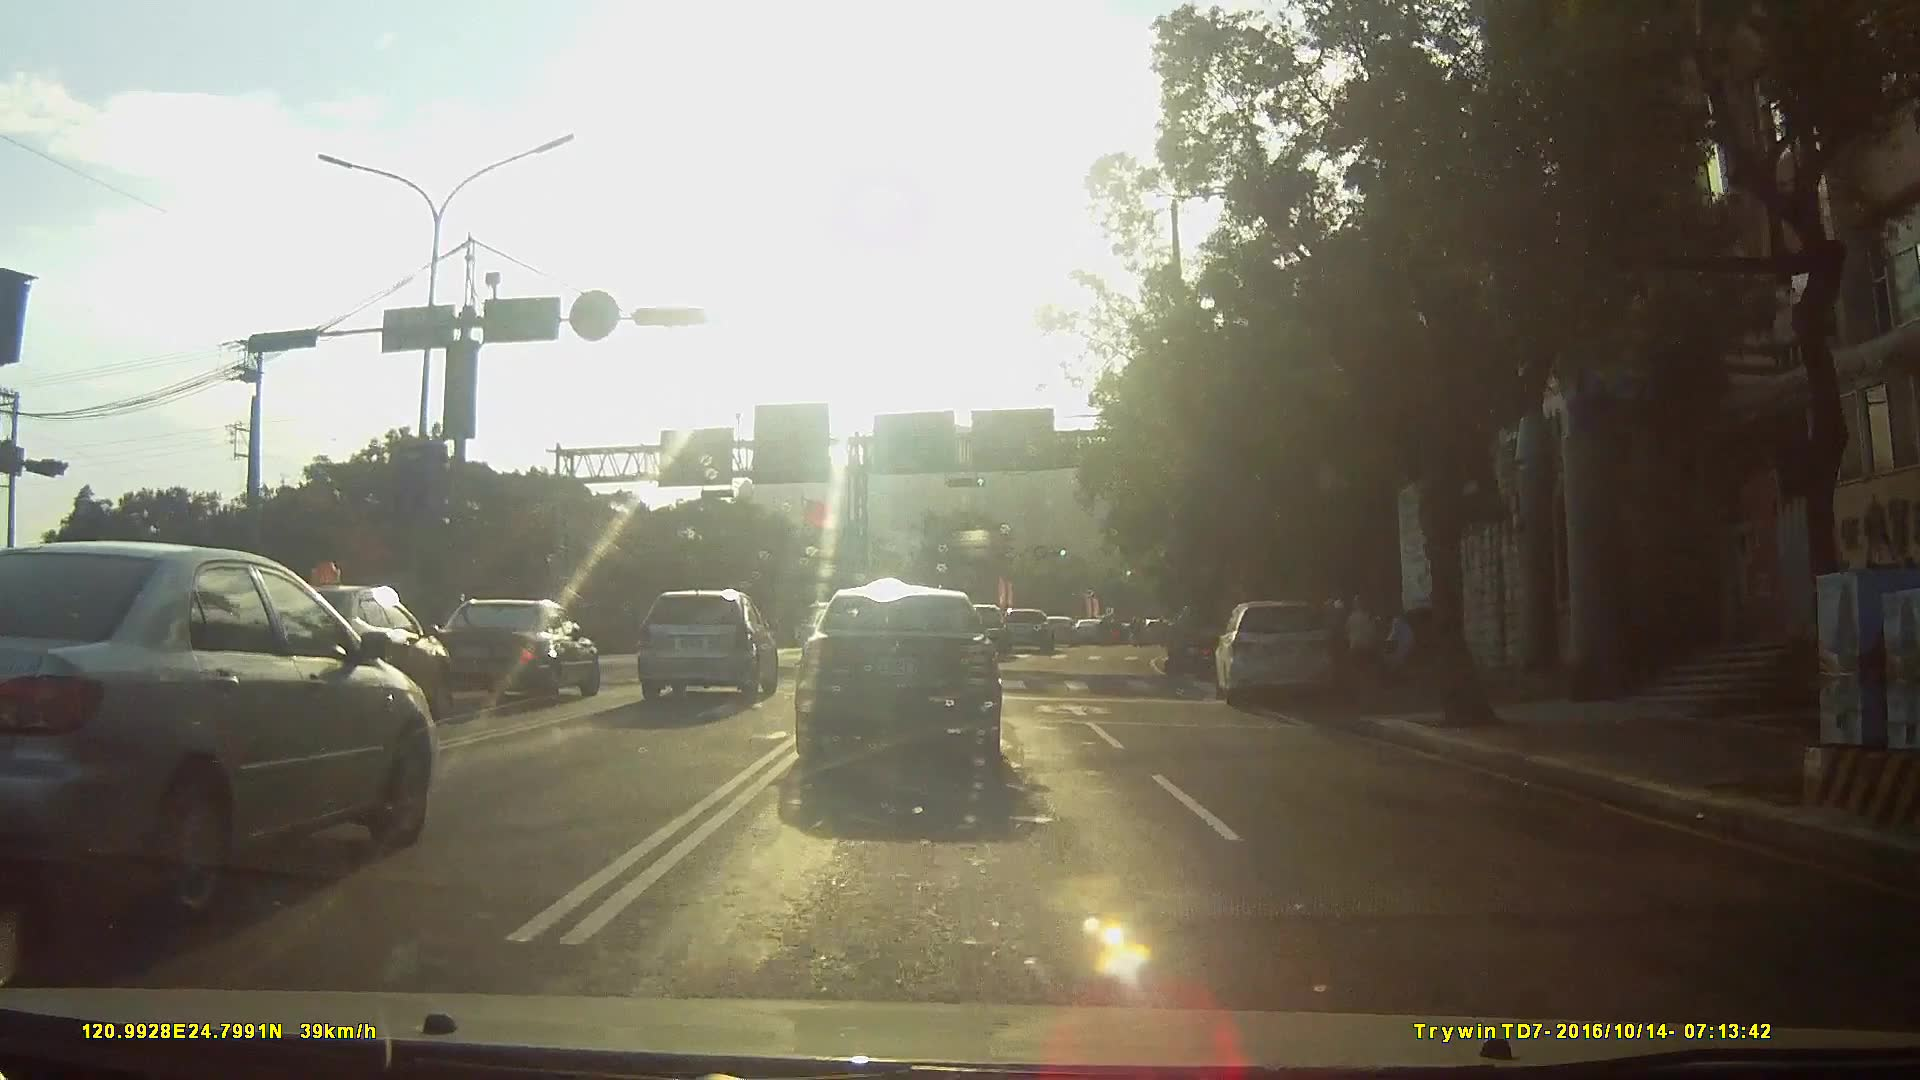pedestrian: (1345, 603, 1386, 665), (1389, 616, 1426, 683)
rider: (1166, 604, 1222, 682)
vehicle: (0, 539, 443, 924), (796, 593, 1026, 793), (414, 598, 605, 709), (1207, 600, 1357, 714), (636, 588, 780, 706), (955, 603, 1017, 661), (1003, 611, 1061, 657), (1047, 616, 1086, 648), (1077, 618, 1116, 646)
